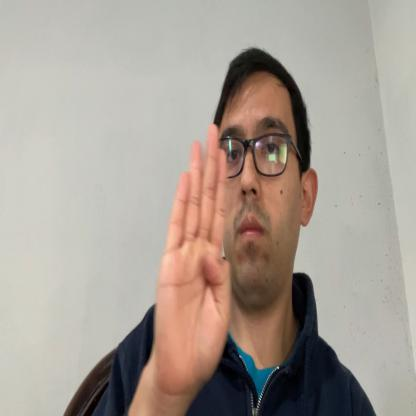B: (155, 121, 231, 388)
